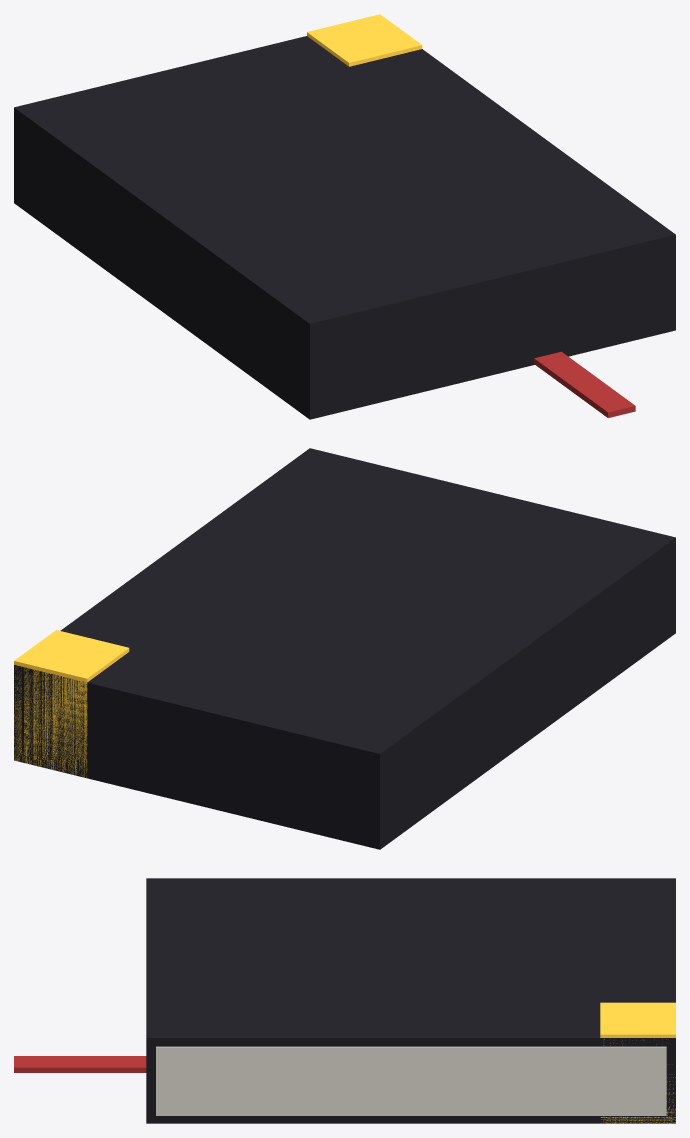
Rendered from gym_betting_book.glb.
3 views of the same model, one above another, from view 1: azimuth 30°, elevation 25°; view 2: azimuth 150°, elevation 25°; view 3: azimuth 270°, elevation 25° (orthographic). The views are drawn at different scales.
Parts seen in each view (by area): view 1: cover_ledger_black, corner_trophy_gold, ribbon_ribbon_red; view 2: cover_ledger_black, corner_trophy_gold; view 3: cover_ledger_black, pages_sheet_paper, corner_trophy_gold, ribbon_ribbon_red.
Part boxes in pixels (x1,y1,x2,y2): cover_ledger_black: [14, 36, 675, 419]; corner_trophy_gold: [307, 14, 422, 66]; ribbon_ribbon_red: [534, 351, 635, 417]; cover_ledger_black: [14, 448, 675, 849]; corner_trophy_gold: [14, 630, 129, 777]; cover_ledger_black: [146, 878, 675, 1123]; pages_sheet_paper: [156, 1046, 666, 1115]; corner_trophy_gold: [600, 1002, 675, 1123]; ribbon_ribbon_red: [14, 1056, 146, 1072].
Bounding box in the file's own units: 0.201 × 0.052 × 0.35.
